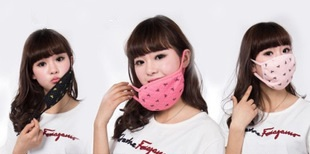face: (135, 46, 184, 92), (32, 49, 70, 94)
face_mask: (257, 42, 296, 91)
